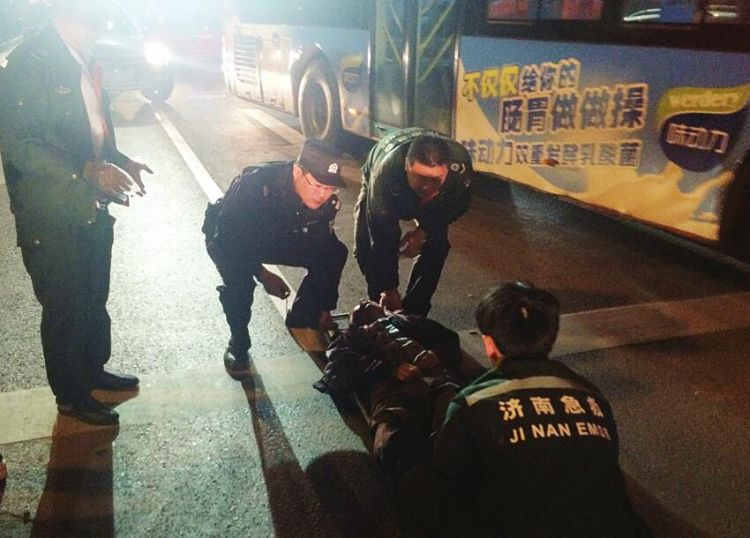fall: (316, 286, 485, 464)
